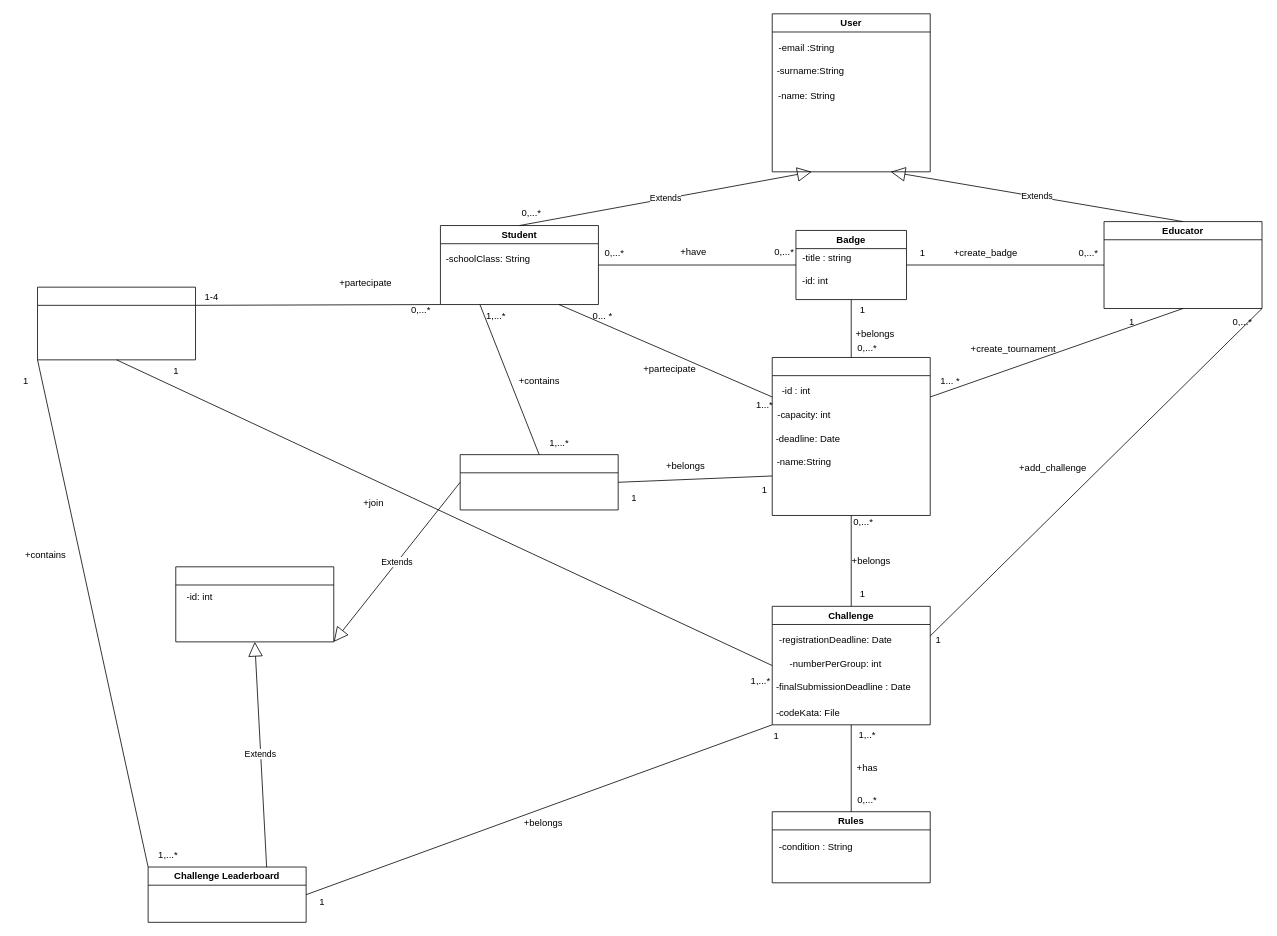
This 1277x936 diagram has some shape labels left out. The box of each missing label's shape, as (x1, y1, x2, y2) in pixels:
Leaderboard: (175, 566, 334, 642)
Team: (37, 286, 196, 360)
Tournament: (771, 357, 930, 515)
Tournament Leaderboard: (459, 454, 618, 510)
